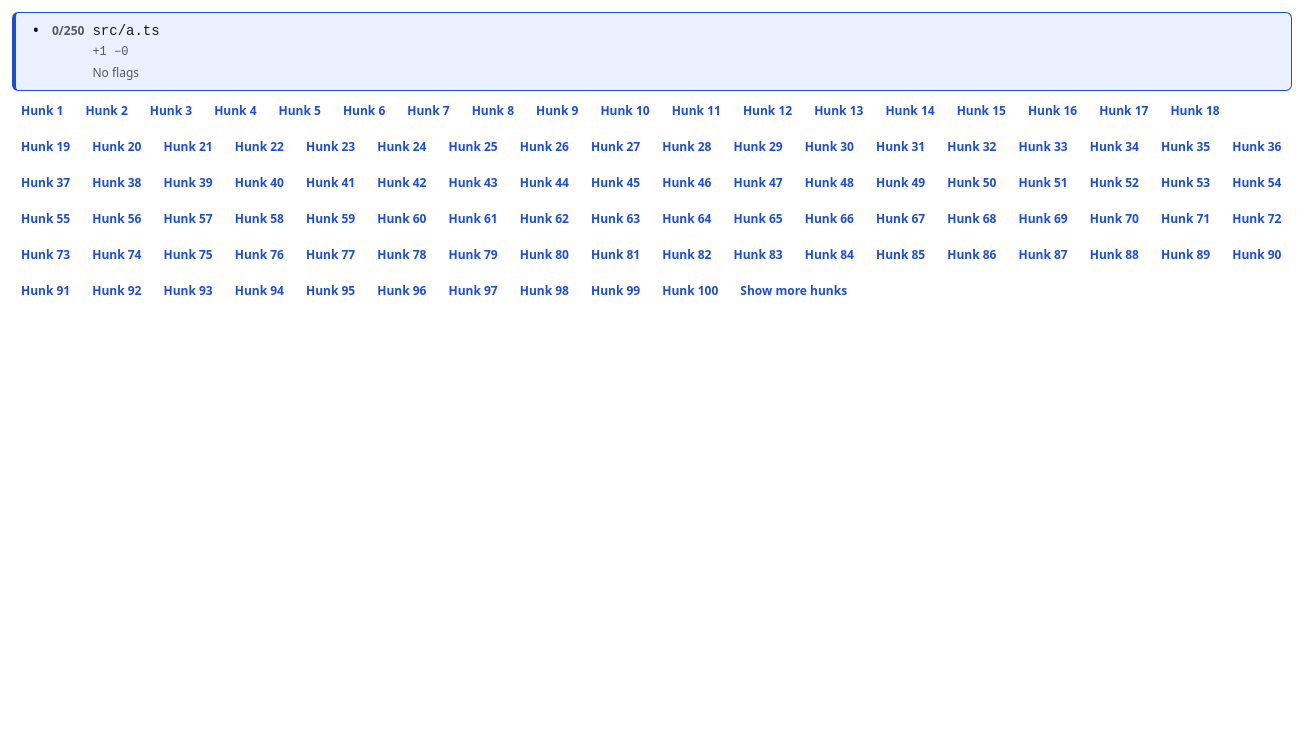
Test: RAIL-ROVING file list hunk links › RAIL-ROVING-LINKS-SHRINK falls back to a first page when the file loses hunks
Click the button "Show more hunks" at (794, 290), box [731,274,856,306]
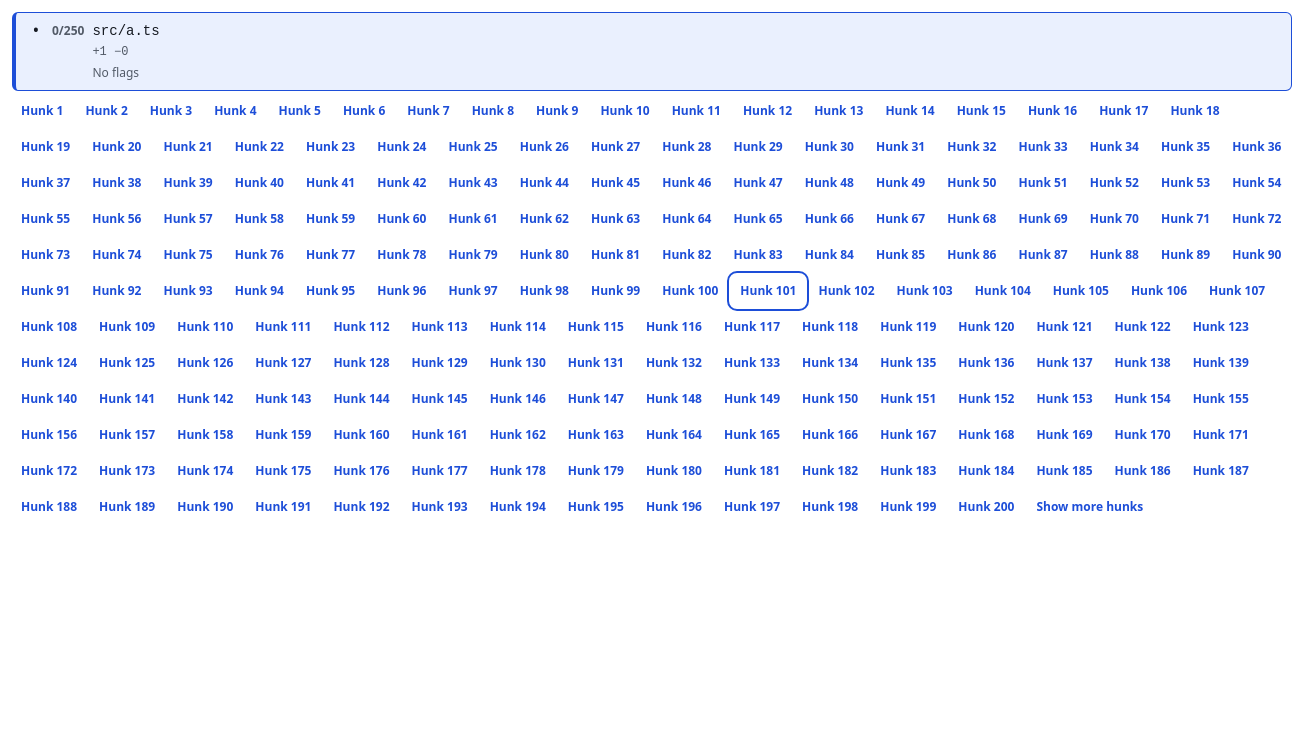
Result: the button "Hunk 101" is shown at [731,274,806,306]
